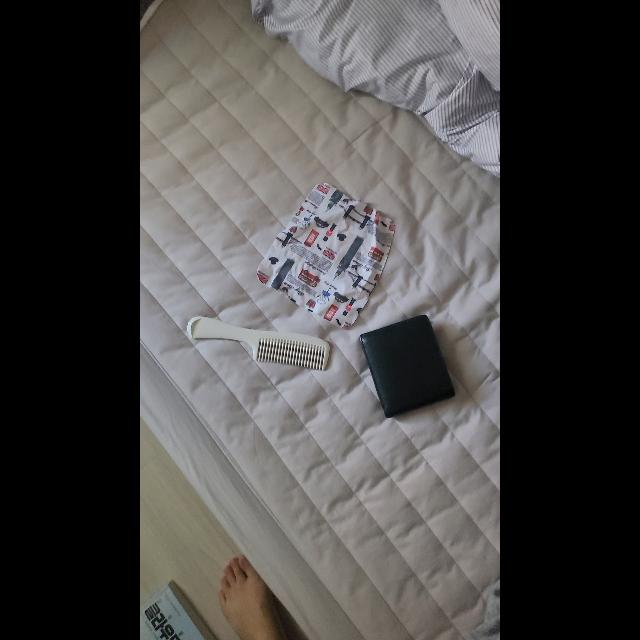COMB: (186, 316, 330, 372)
Glasses cleaning cloth: (256, 182, 396, 328)
WALLET: (359, 314, 455, 418)
